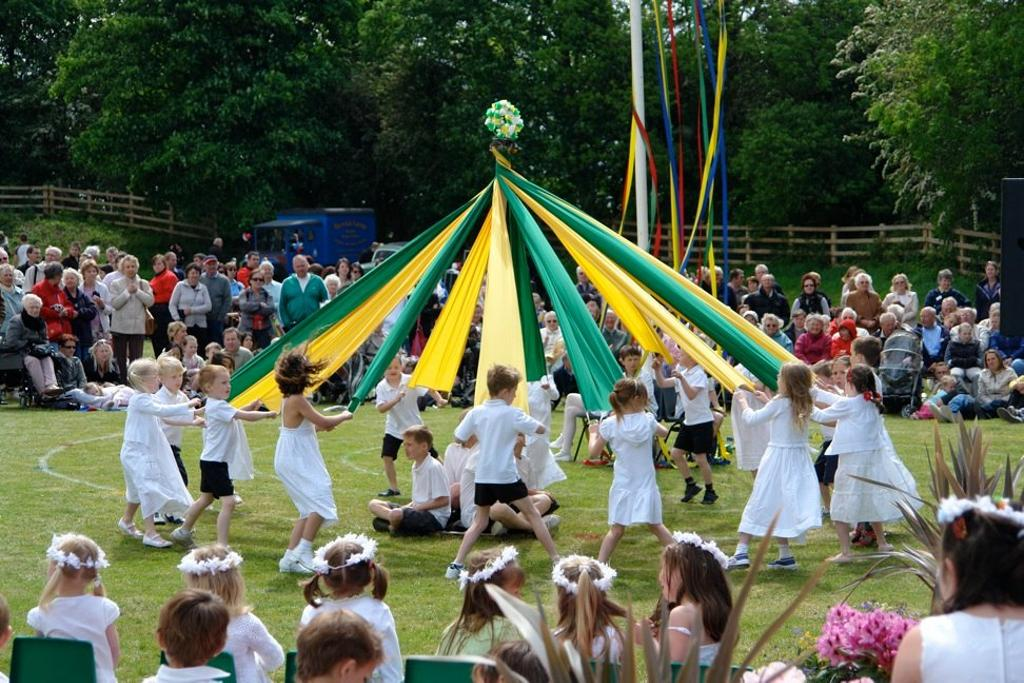face: (658, 555, 674, 603), (209, 369, 231, 397), (401, 432, 422, 461), (144, 363, 160, 395), (165, 364, 182, 391), (831, 364, 847, 387), (385, 358, 399, 381), (583, 300, 597, 321), (224, 333, 238, 352), (625, 355, 640, 372), (507, 381, 516, 406), (678, 347, 690, 365), (985, 352, 997, 370), (27, 300, 40, 316), (65, 273, 77, 289), (63, 340, 75, 356), (808, 319, 821, 333), (765, 319, 777, 334), (919, 310, 931, 325), (842, 313, 853, 329), (803, 279, 814, 294), (858, 276, 869, 291), (125, 261, 135, 277), (605, 312, 615, 328), (170, 348, 180, 364), (295, 260, 305, 276), (85, 267, 96, 281), (209, 348, 220, 362), (578, 268, 589, 282), (2, 270, 12, 285), (547, 315, 557, 330), (189, 269, 199, 284), (253, 274, 263, 289), (894, 276, 904, 291), (883, 317, 893, 332), (935, 366, 946, 379), (961, 311, 972, 324), (98, 347, 108, 361), (188, 341, 197, 356), (153, 259, 163, 272), (206, 260, 216, 273), (942, 301, 952, 314), (961, 329, 971, 342), (985, 264, 995, 277), (46, 250, 55, 264), (990, 316, 999, 330), (178, 328, 186, 343), (262, 265, 272, 277), (794, 315, 804, 327), (328, 279, 337, 292), (339, 262, 348, 275), (0, 252, 7, 268), (715, 270, 723, 284), (762, 276, 772, 287), (946, 316, 956, 327), (745, 314, 754, 326), (946, 381, 955, 393), (940, 276, 949, 288), (31, 248, 39, 261), (168, 255, 176, 268), (251, 254, 259, 267), (352, 267, 360, 280), (757, 266, 765, 279), (244, 337, 252, 349), (227, 266, 235, 277), (737, 274, 745, 285), (748, 281, 756, 292), (71, 246, 78, 256)
